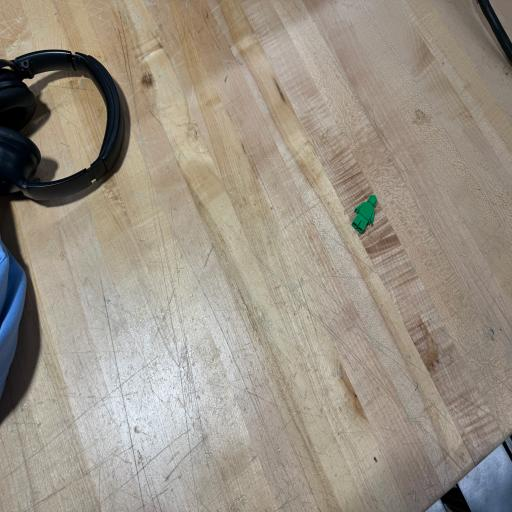Lego-Dude: (352, 195, 377, 233)
